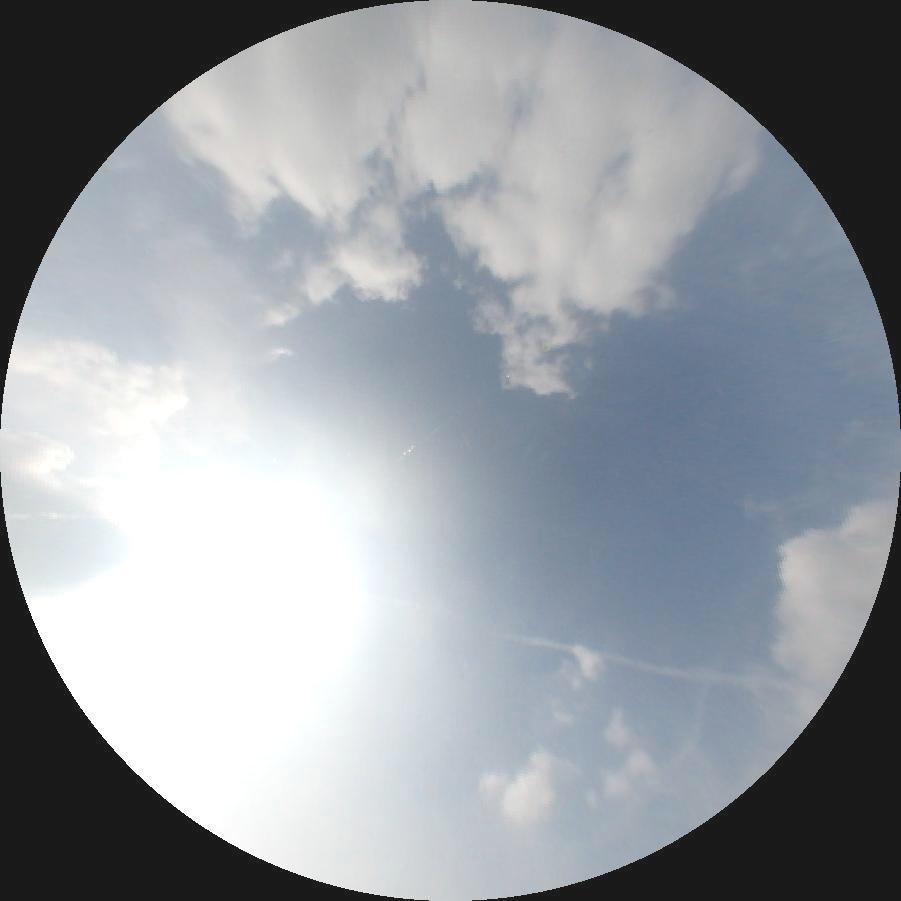contrail old: (499, 631, 751, 691)
sun: (78, 516, 331, 710)
